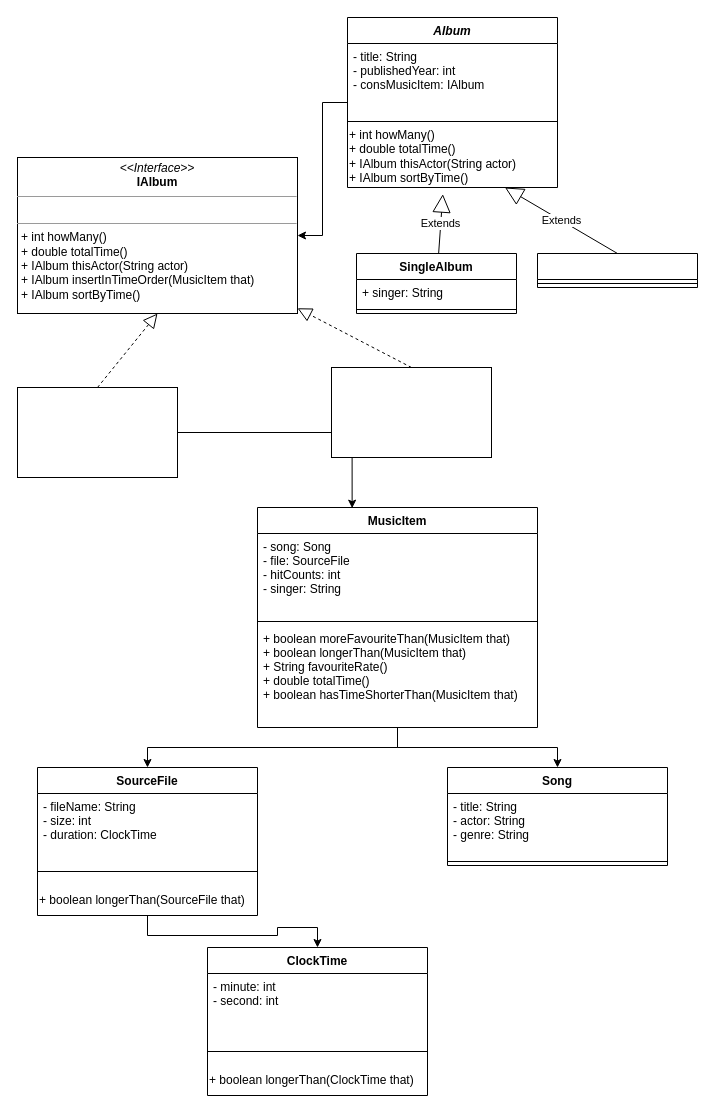
Image size: 715x1113. Some labels were removed from this diagram. The centre of each missing label's shape, as x and y in pixels:
ConsMusicItem - first: MusicItem - rest: IAlbum: (x=97, y=432)
MixAlbum: (x=617, y=270)
MTMusicItem: (x=411, y=412)
